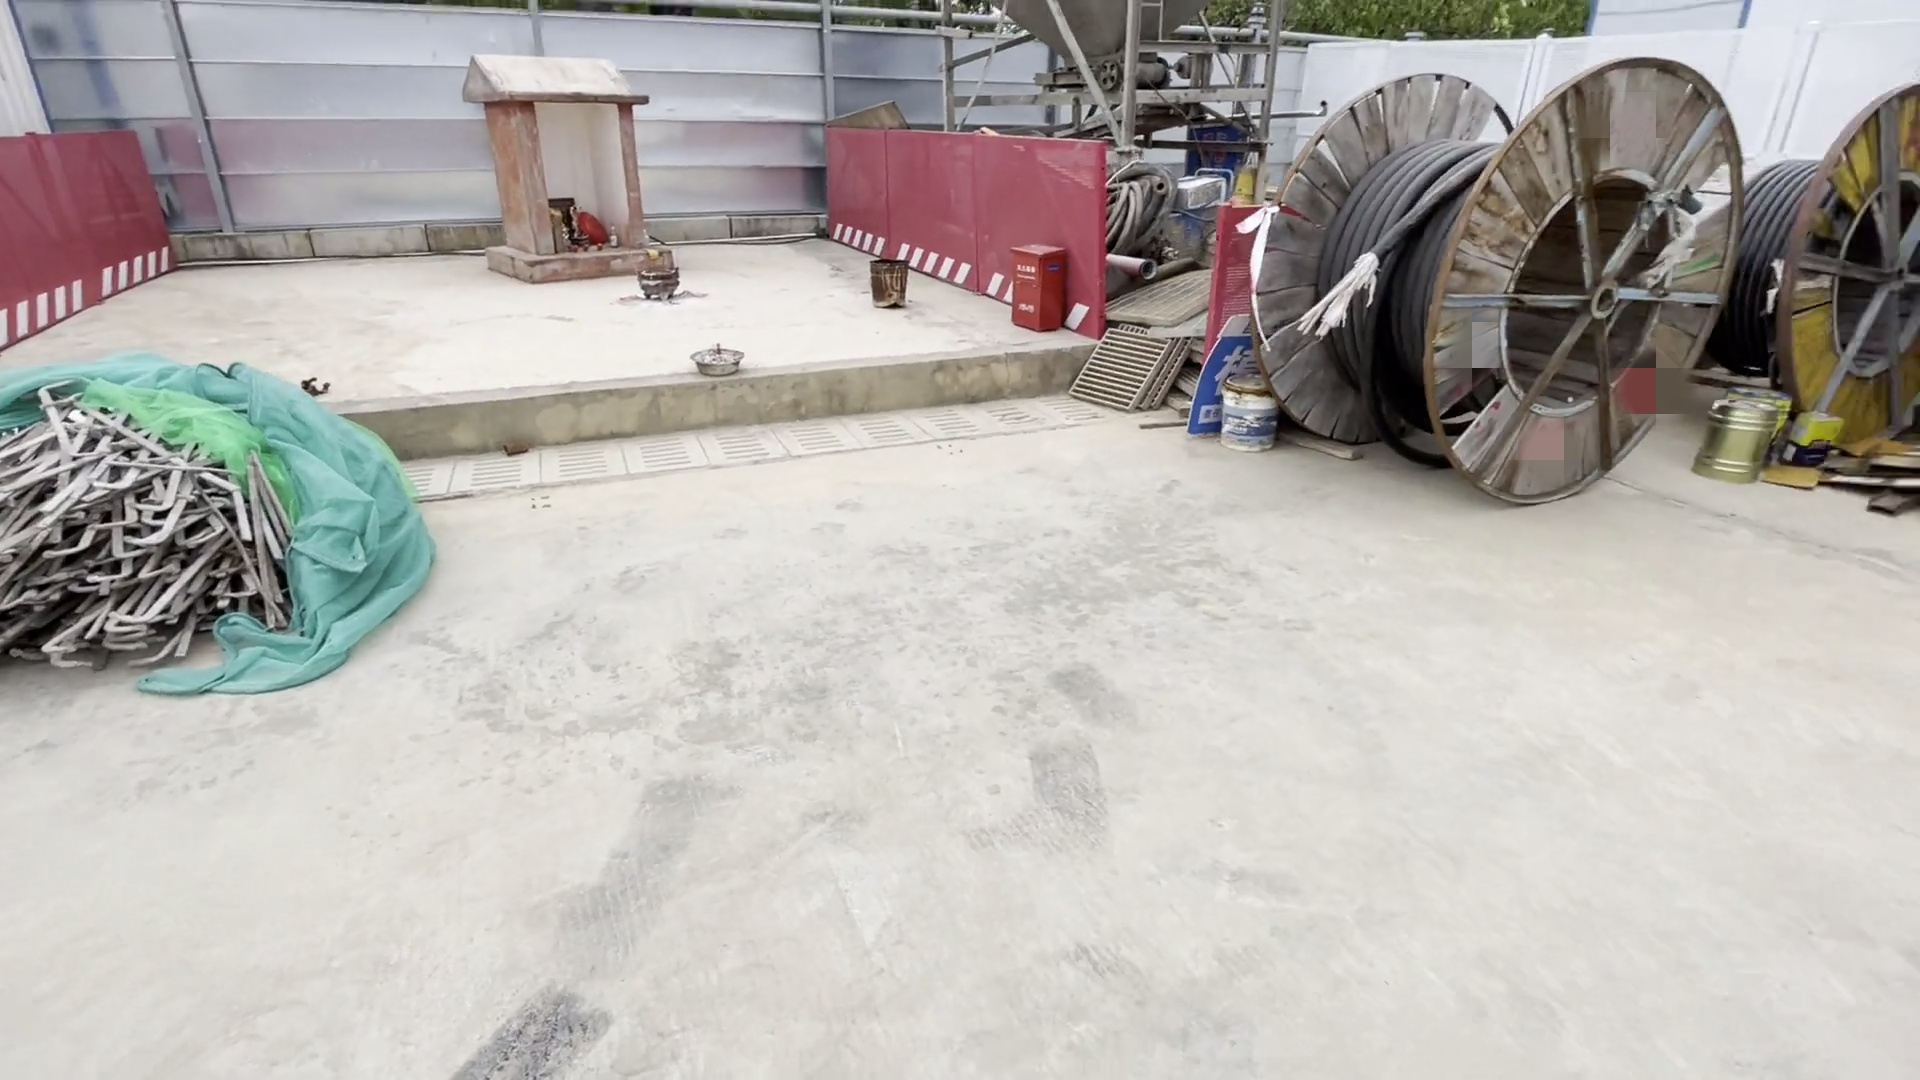fence: (818, 109, 1112, 375)
